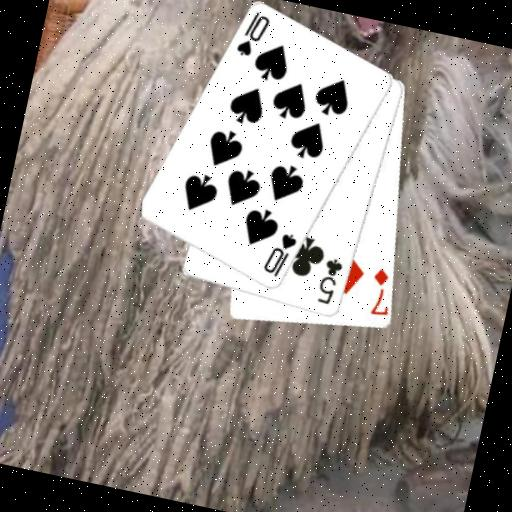10S: (231, 6, 273, 62), (259, 226, 300, 281)
5C: (312, 254, 345, 308)
7D: (363, 264, 397, 320)
